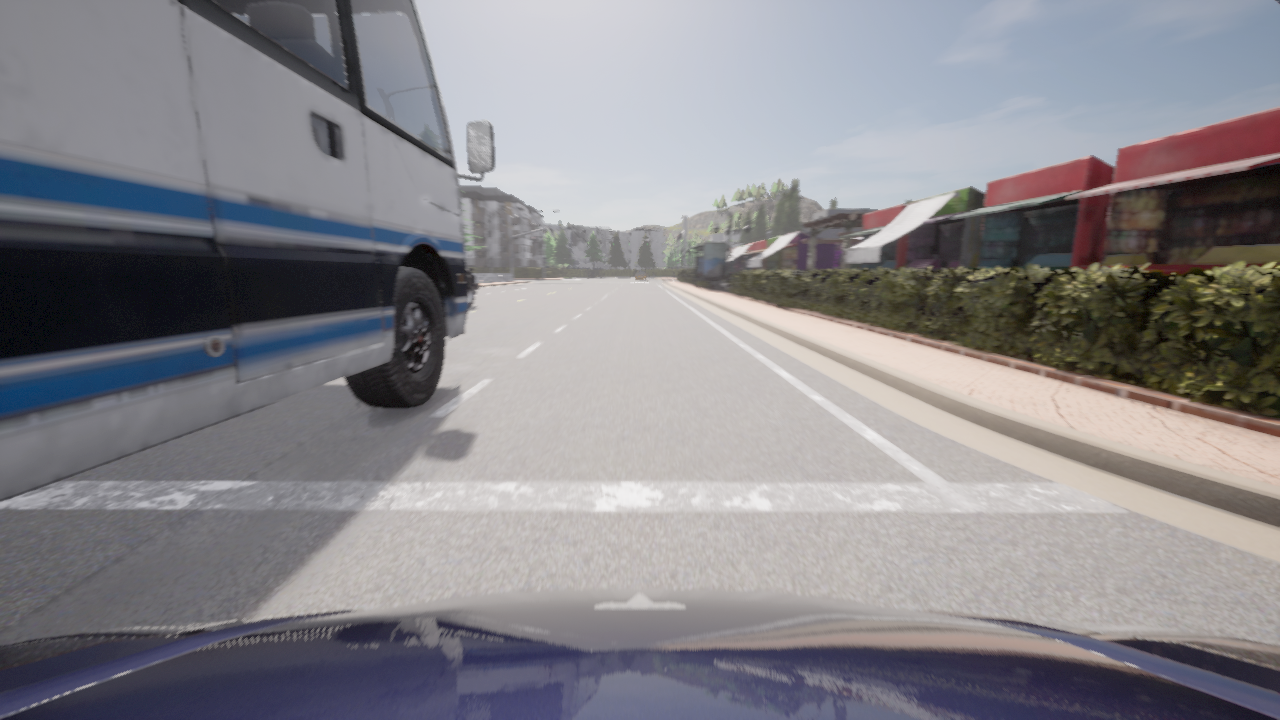cyclist: (0, 588, 1279, 719), (467, 269, 478, 308), (636, 270, 647, 280)
